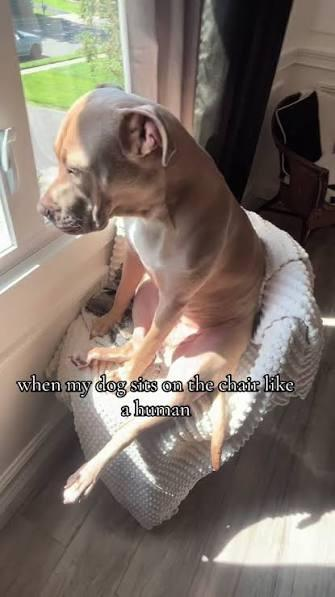adult_dog: (36, 85, 264, 504)
